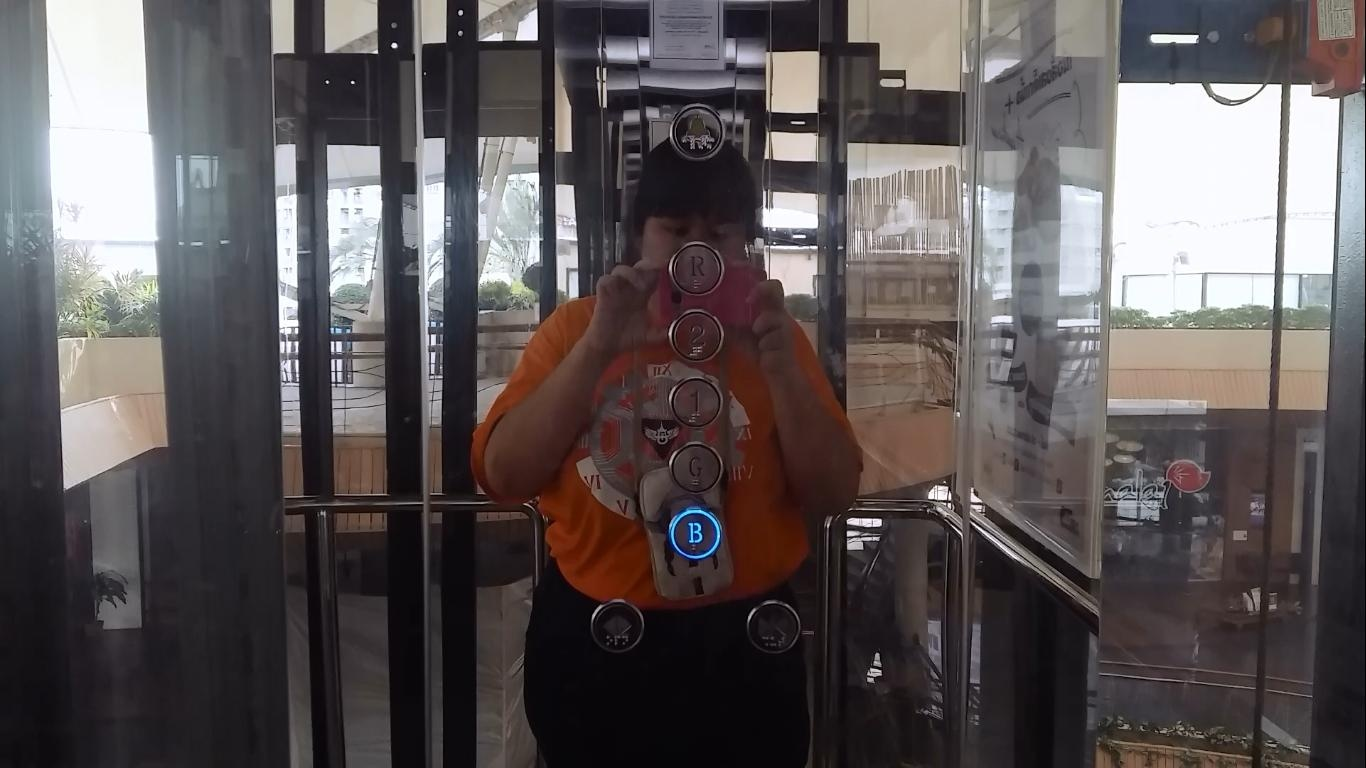1: (667, 373, 724, 433)
2: (665, 308, 727, 366)
B: (665, 504, 724, 564)
G: (667, 440, 724, 498)
R: (668, 240, 725, 299)
alarm: (666, 99, 729, 164)
close: (742, 596, 803, 657)
open: (587, 596, 646, 656)
